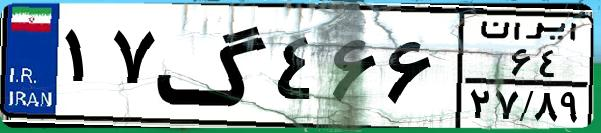1: (57, 26, 110, 100)
2: (470, 70, 495, 125)
4: (270, 28, 330, 110), (537, 27, 568, 80)
6: (385, 28, 445, 110), (330, 28, 385, 110), (508, 27, 537, 80)
7: (110, 28, 156, 98), (495, 70, 520, 125)
8: (535, 70, 560, 125)
9: (560, 70, 590, 125)
گ: (156, 12, 270, 120)
